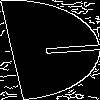L: (24, 25, 100, 58)
